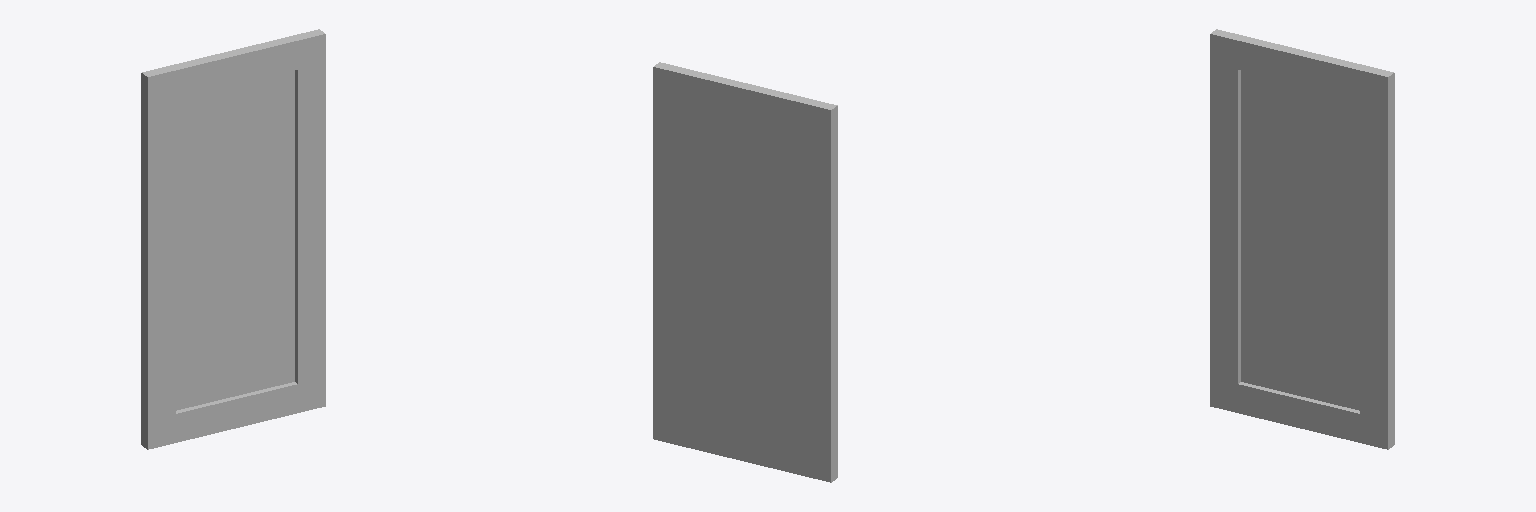
The model's file is 666_tall_wall_mirror.obj.
3 renders of one model, left to right at view 1: azimuth 30°, elevation 25°; view 2: azimuth 150°, elevation 25°; view 3: azimuth 330°, elevation 25°, orthographic.
Visible parts, largest first — view 1: Mirror, Right, Left, Top, Bottom; view 2: Mirror, Right, Left, Top, Bottom; view 3: Mirror, Left, Right, Top, Bottom.
Part boxes in pixels (x1,y1,x2,y2): Mirror: (176, 71, 294, 410); Right: (141, 66, 175, 449); Left: (292, 29, 325, 412); Top: (170, 36, 297, 98); Bottom: (176, 382, 297, 442); Mirror: (681, 103, 802, 446); Right: (803, 99, 837, 482); Left: (653, 62, 686, 445); Top: (681, 69, 808, 131); Bottom: (681, 417, 802, 475); Mirror: (1241, 71, 1359, 410); Left: (1360, 66, 1394, 449); Right: (1210, 29, 1243, 412); Top: (1238, 36, 1365, 98); Bottom: (1238, 382, 1359, 442).
Bounding box in the file's own units: 1 × 2 × 0.5001.